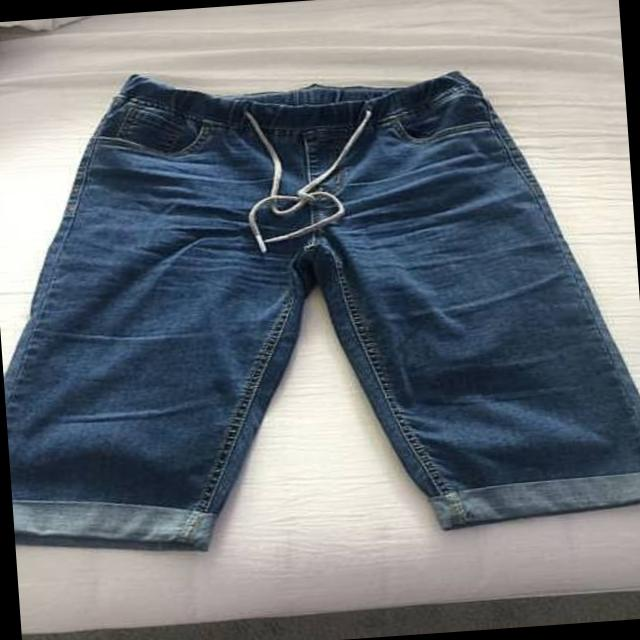SHORT: (0, 28, 640, 567)
